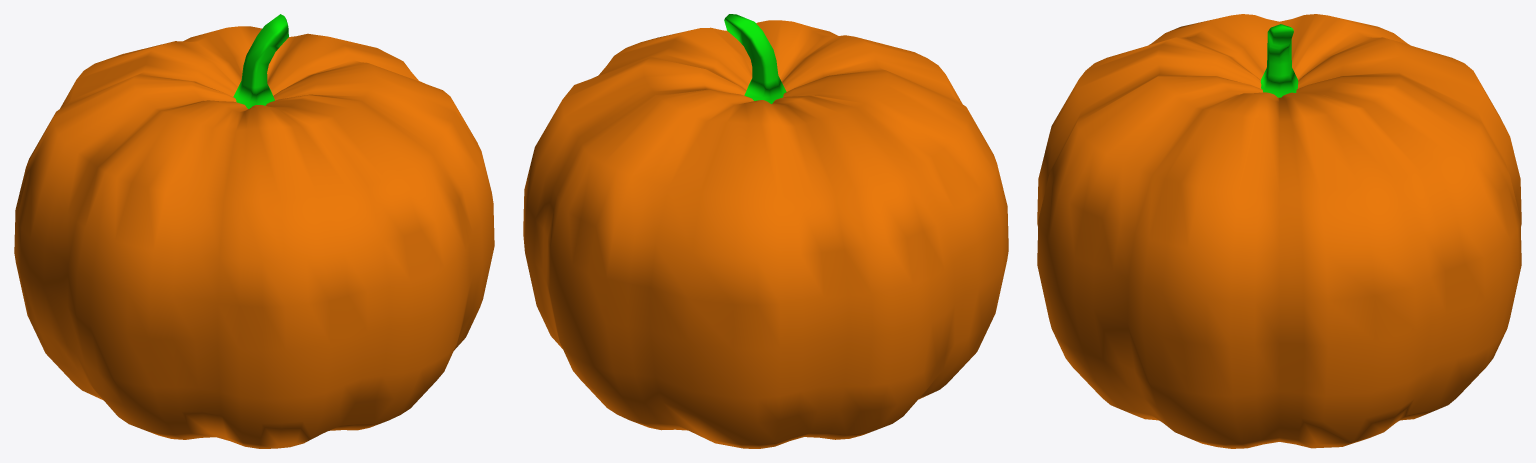
File: PumpkinMergedReduced.fbx
The picture shows the model from 3 angles, left to right: view 1: azimuth 30°, elevation 25°; view 2: azimuth 150°, elevation 25°; view 3: azimuth 270°, elevation 25°; orthographic projection. The views are drawn at different scales.
Visible parts, largest first — view 1: Pumpkin; view 2: Pumpkin; view 3: Pumpkin.
Part boxes in pixels (box(x1,y1,x2,y2)): Pumpkin: box(14, 14, 494, 448); Pumpkin: box(523, 14, 1008, 448); Pumpkin: box(1037, 14, 1521, 448).
Size of the model in its own units: 190 by 165 by 190.
